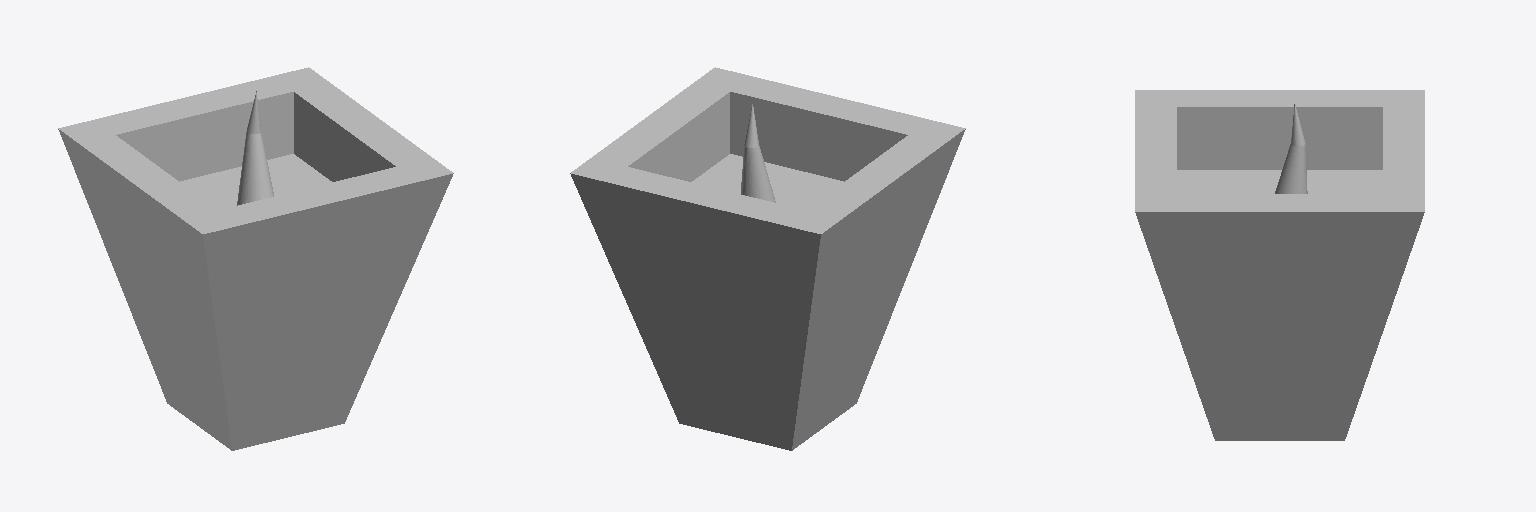
File: prantinha 01_000003.obj
3 views of the same model, side by side, from view 1: azimuth 30°, elevation 25°; view 2: azimuth 150°, elevation 25°; view 3: azimuth 270°, elevation 25° (orthographic).
Visible parts, largest first — view 1: Cube, NurbsPath; view 2: Cube, NurbsPath; view 3: Cube, NurbsPath.
Part boxes in pixels (x1,y1,x2,y2): Cube: (58,67,453,450); NurbsPath: (237,91,273,205); Cube: (570,67,965,450); NurbsPath: (741,103,775,202); Cube: (1135,90,1424,440); NurbsPath: (1275,104,1307,193).
Bounding box in the file's own units: 1.04 × 1.25 × 1.04.